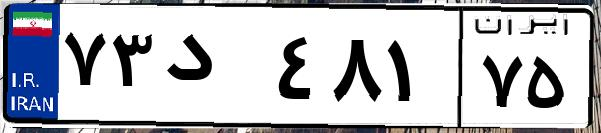1: (385, 28, 445, 110)
3: (110, 28, 158, 98)
4: (270, 28, 330, 110)
5: (525, 38, 570, 115)
7: (57, 26, 110, 100), (475, 38, 525, 113)
8: (330, 28, 385, 110)
د: (158, 20, 270, 120)
